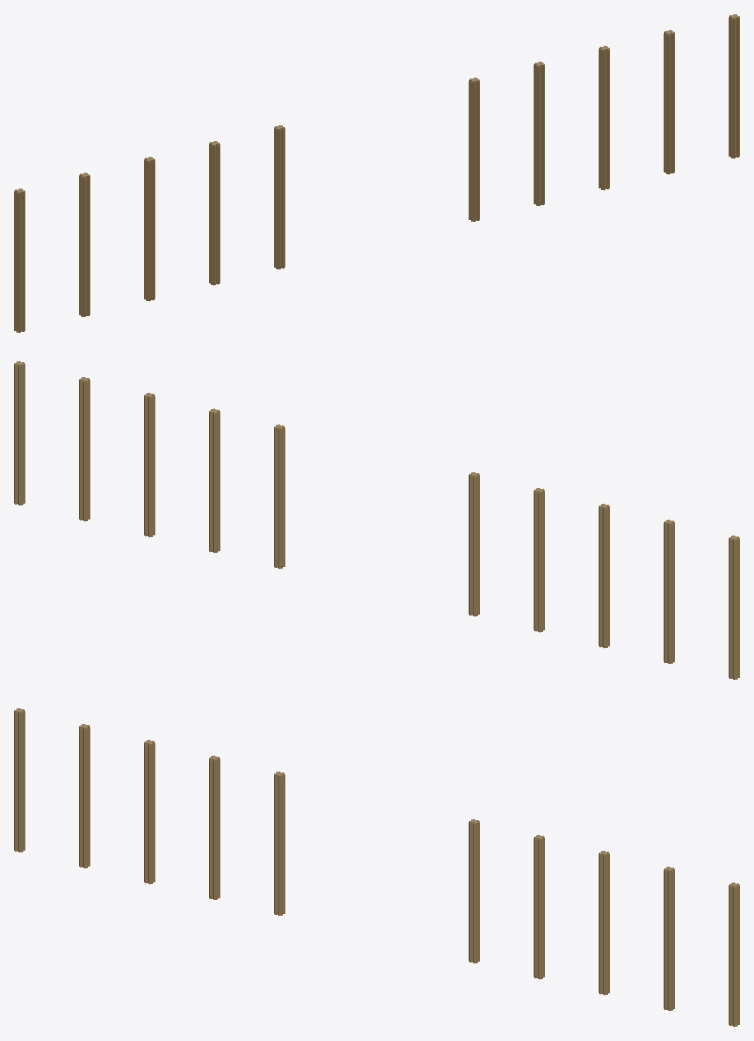
File: Chancery Rosewood_V8.glb
3 renders of one model, top to bottom at view 1: azimuth 30°, elevation 25°; view 2: azimuth 150°, elevation 25°; view 3: azimuth 330°, elevation 25°, orthographic.
Visible parts, largest first — view 1: Cieling supports.004; view 2: Cieling supports.004; view 3: Cieling supports.004.
Boxes of the visible parts, x1,y1,x2,y2 form: Cieling supports.004: (14, 14, 739, 332); Cieling supports.004: (14, 361, 739, 679); Cieling supports.004: (14, 708, 739, 1026).
Size of the model in its own units: 37.88 by 7 by 0.4809.
